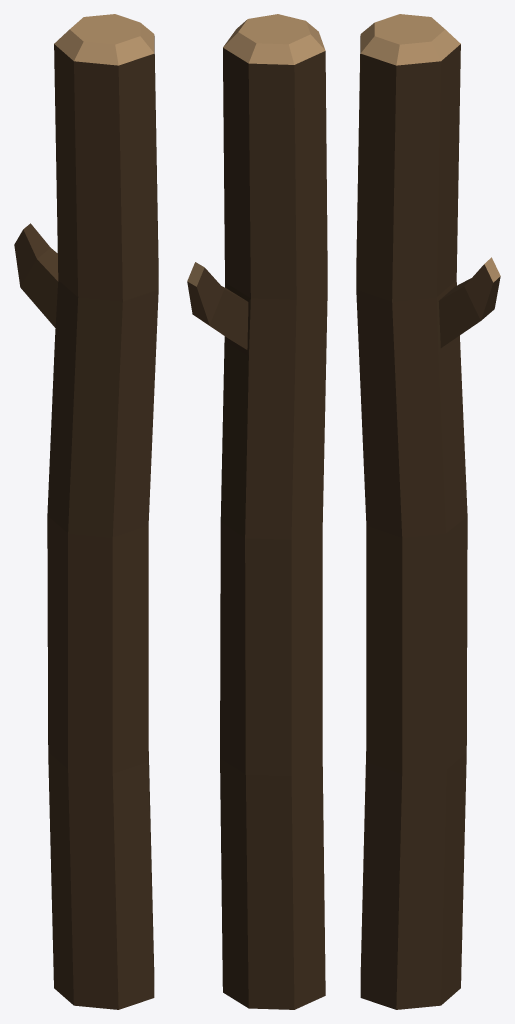
File: Stick.fbx
3 renders of one model, left to right at view 1: azimuth 90°, elevation 25°; view 2: azimuth 150°, elevation 25°; view 3: azimuth 270°, elevation 25°, orthographic.
Visible parts, largest first — view 1: Stick_LOD0; view 2: Stick_LOD0; view 3: Stick_LOD0.
Part boxes in pixels (x1,y1,x2,y2): Stick_LOD0: [14, 14, 158, 1009]; Stick_LOD0: [187, 14, 327, 1009]; Stick_LOD0: [356, 14, 500, 1009].
Size of what is drawn, in the model's own units: 13.89 by 140 by 19.14.
